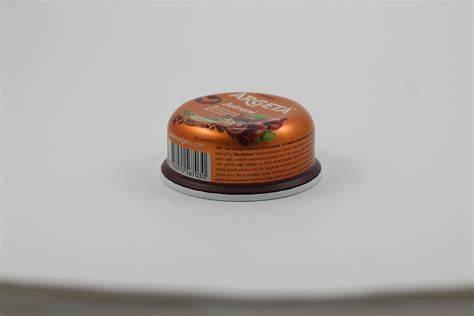metal: (162, 93, 322, 200)
